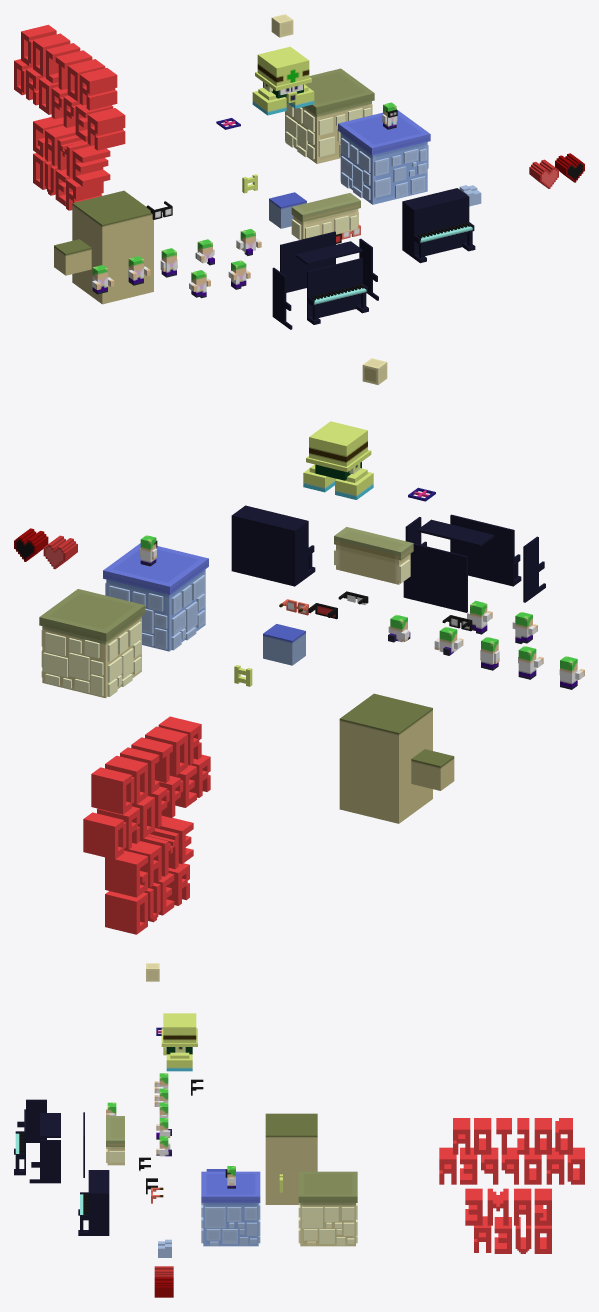
Rendered from ld32_art.dae.
3 renders of one model, top to bottom at view 1: azimuth 30°, elevation 25°; view 2: azimuth 150°, elevation 25°; view 3: azimuth 270°, elevation 25°, orthographic. The views are drawn at different scales.
Parts seen in each view (by area): view 1: Box_4, Box_38, Box_7, Box, _4, _9, Box_12, _5, Box_22, Box_29, Box_33, Box_10 (+28 smaller); view 2: Box_38, Box_7, Box_4, Box, _5, _9, _4, Box_12, Box_17, Box_23, Box_30, Box_34 (+14 smaller); view 3: Box_7, Box_4, Box_38, Box, Box_12, _6, _9, _7, Box_30, Box_33, Box_18, Box_21 (+18 smaller).
Boxes of the visible parts, bbox=[...] form: Box_4: bbox=[338, 110, 430, 204]; Box_38: bbox=[72, 190, 153, 304]; Box_7: bbox=[285, 68, 374, 163]; Box: bbox=[402, 188, 475, 263]; _4: bbox=[307, 258, 368, 324]; _9: bbox=[291, 193, 360, 239]; Box_12: bbox=[255, 46, 311, 90]; _5: bbox=[280, 231, 335, 292]; Box_22: bbox=[79, 68, 117, 110]; Box_29: bbox=[87, 108, 125, 150]; Box_33: bbox=[72, 145, 110, 186]; Box_10: bbox=[54, 239, 91, 275]; Box_38: bbox=[339, 693, 432, 823]; Box_7: bbox=[39, 589, 144, 698]; Box_4: bbox=[103, 543, 208, 651]; Box: bbox=[231, 505, 315, 586]; _5: bbox=[403, 543, 467, 612]; _9: bbox=[334, 527, 413, 584]; _4: bbox=[450, 514, 521, 586]; Box_12: bbox=[306, 421, 371, 472]; Box_17: bbox=[91, 767, 134, 814]; Box_23: bbox=[83, 812, 126, 859]; Box_30: bbox=[105, 850, 147, 897]; Box_34: bbox=[105, 891, 147, 934]; Box_7: bbox=[298, 1171, 357, 1246]; Box_4: bbox=[201, 1171, 260, 1246]; Box_38: bbox=[265, 1113, 317, 1204]; Box: bbox=[78, 1170, 109, 1235]; Box_12: bbox=[161, 1013, 197, 1046]; _6: bbox=[29, 1140, 60, 1183]; _9: bbox=[106, 1116, 124, 1165]; _7: bbox=[17, 1099, 46, 1142]; Box_30: bbox=[534, 1188, 551, 1225]; Box_33: bbox=[465, 1188, 482, 1225]; Box_18: bbox=[534, 1118, 551, 1154]; Box_21: bbox=[474, 1118, 491, 1154].
Bounding box in the file's own units: 283 × 181 × 329.
1 material, 1 textured.
